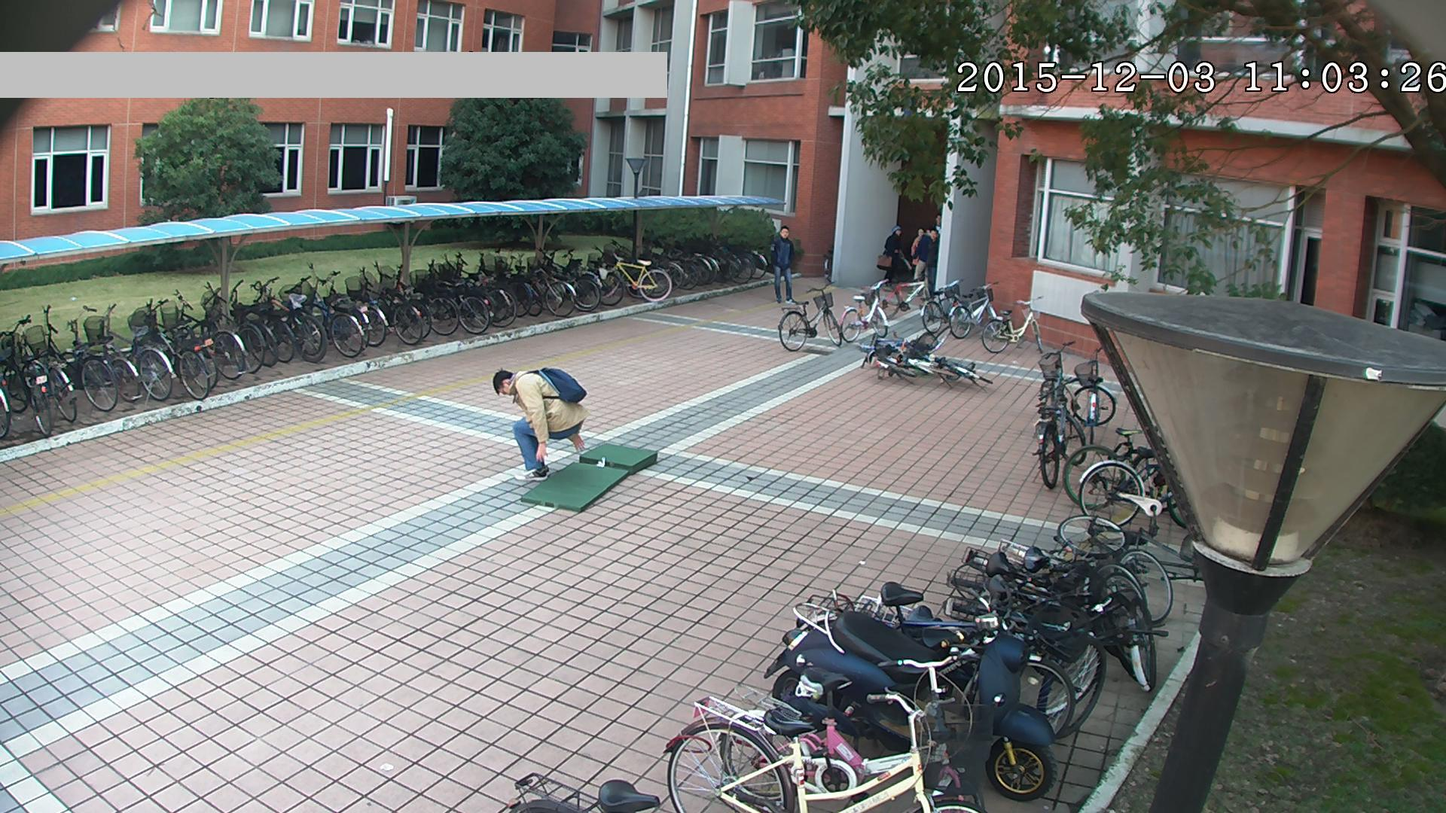person: (484, 360, 589, 482), (768, 219, 806, 309)
